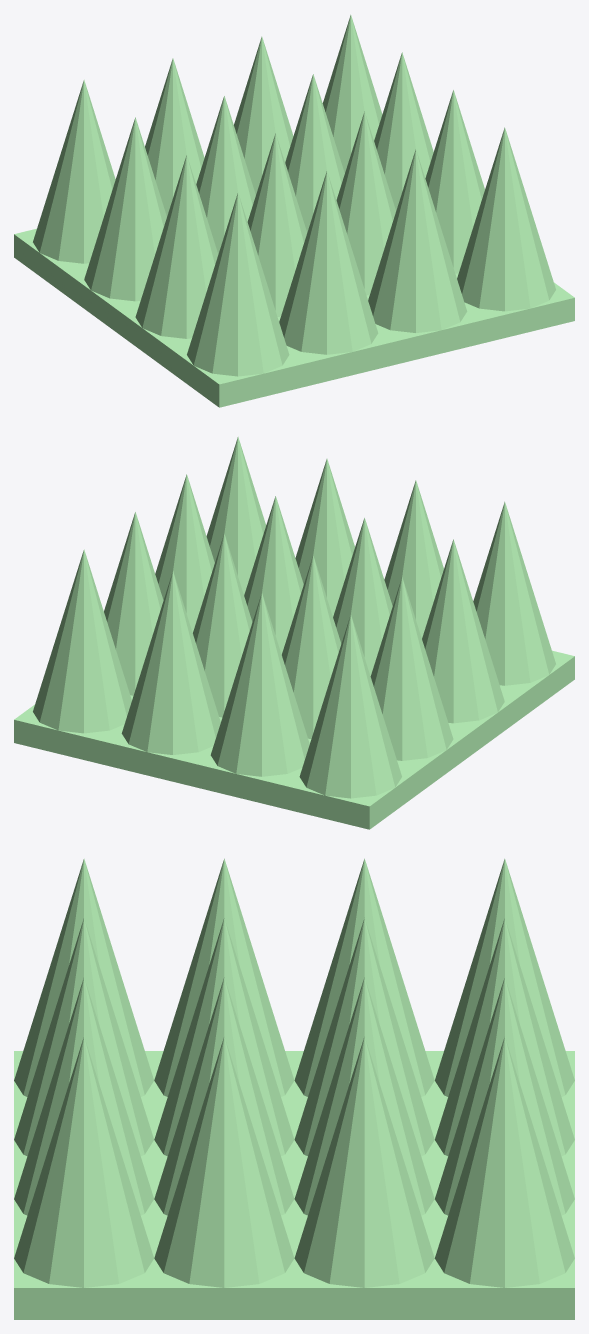
Rendered from spikes.obj.
The picture shows the model from 3 angles, top to bottom: view 1: azimuth 30°, elevation 25°; view 2: azimuth 150°, elevation 25°; view 3: azimuth 270°, elevation 25°; orthographic projection. The views are drawn at different scales.
Parts seen in each view (by area): view 1: Mesh1 Group1 Model, Mesh2 Group2 Model, Mesh5 Group5 Model, Mesh3 Group3 Model, Mesh4 Group4 Model, Mesh15 Group15 Model, Mesh11 Group11 Model, Mesh7 Group7 Model, Mesh6 Group6 Model, Mesh9 Group9 Model, Mesh8 Group8 Model, Mesh12 Group12 Model (+5 smaller); view 2: Mesh1 Group1 Model, Mesh15 Group15 Model, Mesh16 Group16 Model, Mesh14 Group14 Model, Mesh17 Group17 Model, Mesh2 Group2 Model, Mesh7 Group7 Model, Mesh11 Group11 Model, Mesh12 Group12 Model, Mesh10 Group10 Model, Mesh13 Group13 Model, Mesh5 Group5 Model (+5 smaller); view 3: Mesh1 Group1 Model, Mesh5 Group5 Model, Mesh16 Group16 Model, Mesh6 Group6 Model, Mesh12 Group12 Model, Mesh9 Group9 Model, Mesh10 Group10 Model, Mesh2 Group2 Model, Mesh8 Group8 Model, Mesh13 Group13 Model, Mesh15 Group15 Model, Mesh7 Group7 Model (+5 smaller).
Part boxes in pixels (x1=…): Mesh1 Group1 Model: x1=14, y1=228, x2=574, y2=407; Mesh2 Group2 Model: x1=187, y1=192, x2=289, y2=376; Mesh5 Group5 Model: x1=457, y1=127, x2=555, y2=311; Mesh3 Group3 Model: x1=279, y1=171, x2=378, y2=354; Mesh4 Group4 Model: x1=368, y1=149, x2=467, y2=332; Mesh15 Group15 Model: x1=33, y1=79, x2=115, y2=263; Mesh11 Group11 Model: x1=84, y1=117, x2=166, y2=301; Mesh7 Group7 Model: x1=135, y1=155, x2=218, y2=338; Mesh6 Group6 Model: x1=425, y1=90, x2=484, y2=273; Mesh9 Group9 Model: x1=336, y1=111, x2=395, y2=295; Mesh8 Group8 Model: x1=247, y1=133, x2=306, y2=316; Mesh12 Group12 Model: x1=374, y1=52, x2=433, y2=210; Mesh1 Group1 Model: x1=14, y1=650, x2=574, y2=829; Mesh15 Group15 Model: x1=299, y1=614, x2=401, y2=798; Mesh16 Group16 Model: x1=33, y1=549, x2=131, y2=733; Mesh14 Group14 Model: x1=121, y1=571, x2=220, y2=754; Mesh17 Group17 Model: x1=210, y1=593, x2=309, y2=776; Mesh2 Group2 Model: x1=473, y1=501, x2=555, y2=685; Mesh7 Group7 Model: x1=422, y1=539, x2=504, y2=723; Mesh11 Group11 Model: x1=370, y1=577, x2=453, y2=760; Mesh12 Group12 Model: x1=104, y1=512, x2=163, y2=695; Mesh10 Group10 Model: x1=193, y1=533, x2=252, y2=717; Mesh13 Group13 Model: x1=282, y1=555, x2=341, y2=738; Mesh5 Group5 Model: x1=206, y1=436, x2=266, y2=595; Mesh1 Group1 Model: x1=14, y1=1051, x2=574, y2=1319; Mesh5 Group5 Model: x1=14, y1=1036, x2=154, y2=1287; Mesh16 Group16 Model: x1=434, y1=1036, x2=574, y2=1287; Mesh6 Group6 Model: x1=154, y1=1036, x2=294, y2=1287; Mesh12 Group12 Model: x1=294, y1=1036, x2=434, y2=1287; Mesh9 Group9 Model: x1=154, y1=977, x2=294, y2=1215; Mesh10 Group10 Model: x1=294, y1=977, x2=434, y2=1215; Mesh2 Group2 Model: x1=14, y1=858, x2=153, y2=1096; Mesh8 Group8 Model: x1=154, y1=918, x2=294, y2=1156; Mesh13 Group13 Model: x1=294, y1=918, x2=434, y2=1156; Mesh15 Group15 Model: x1=435, y1=858, x2=574, y2=1096; Mesh7 Group7 Model: x1=154, y1=858, x2=294, y2=1096.
Size of the model in its own units: 16 by 8 by 16.
